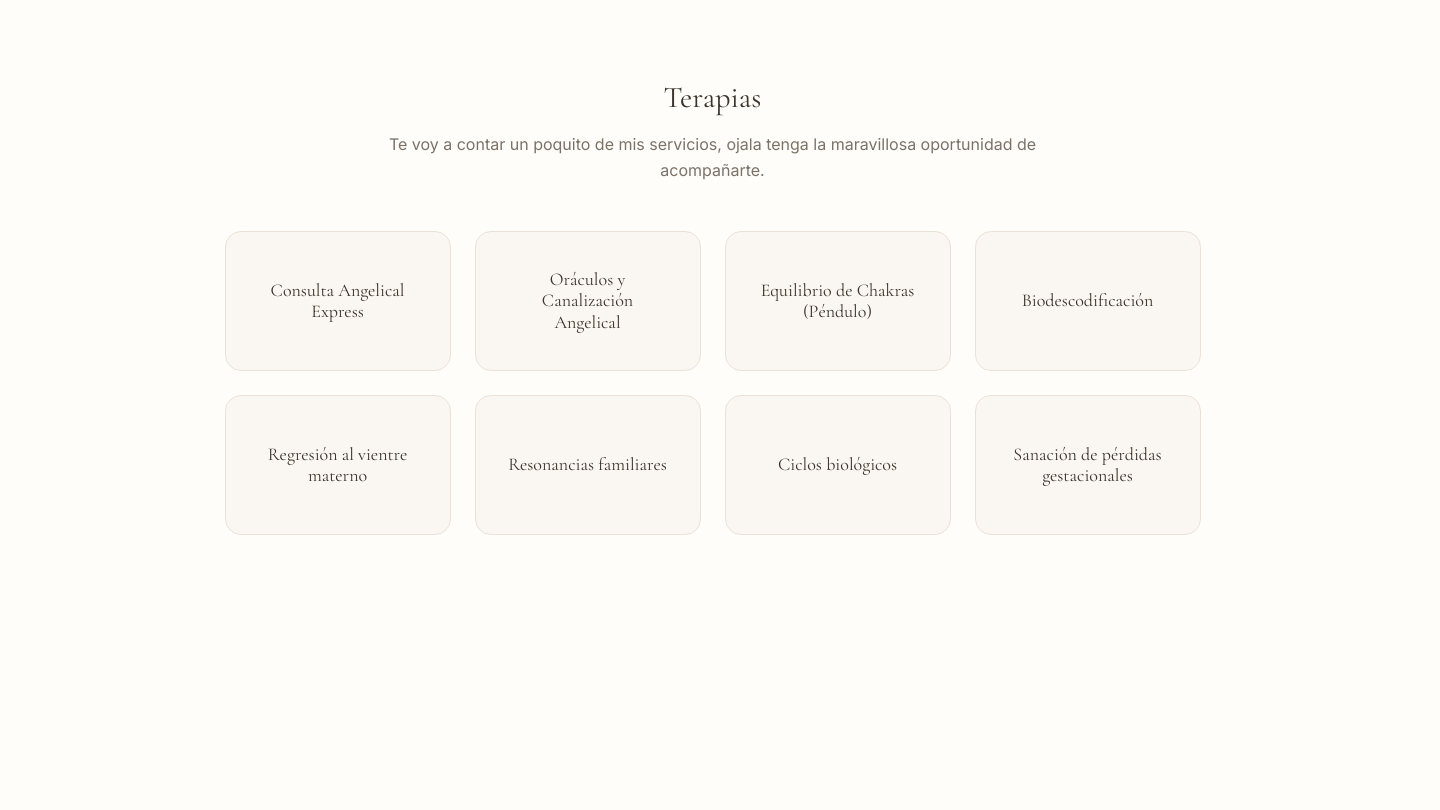
Test: Services › opening a therapy card › opens the modal with "Oráculos y Canalización Angelical" content
Click the button "Oráculos y Canalización Angelical" at (588, 301), box [474,231,700,371]
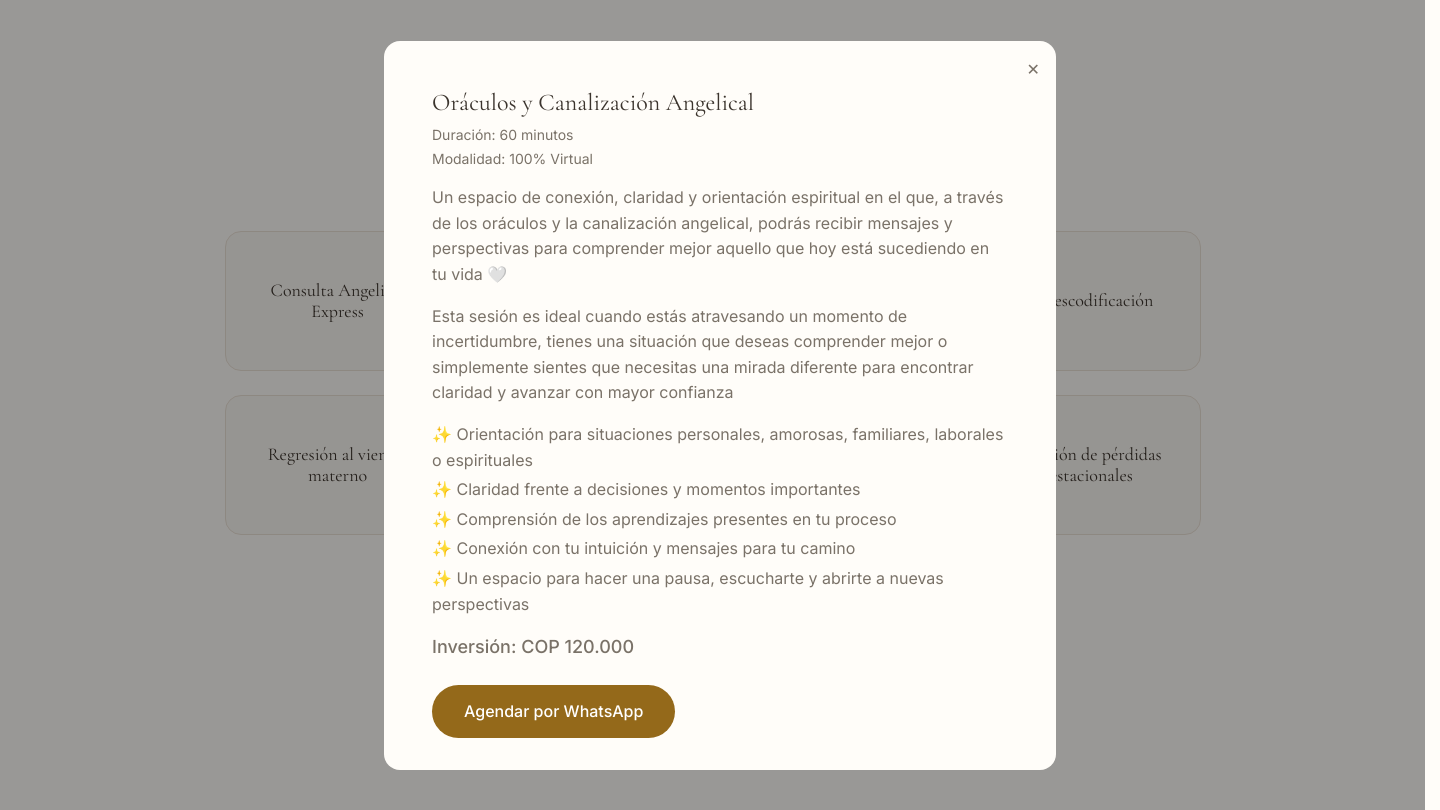
Expected: the dialog is shown, [384,40,1056,770]
Expected: the heading "Oráculos y Canalización Angelical" is shown, [432,88,754,116]
Expected: the text "Un espacio de conexión, claridad y orientación espiritual en el que, a través de los oráculos y la canalización angelica" is shown, [432,187,1003,284]
